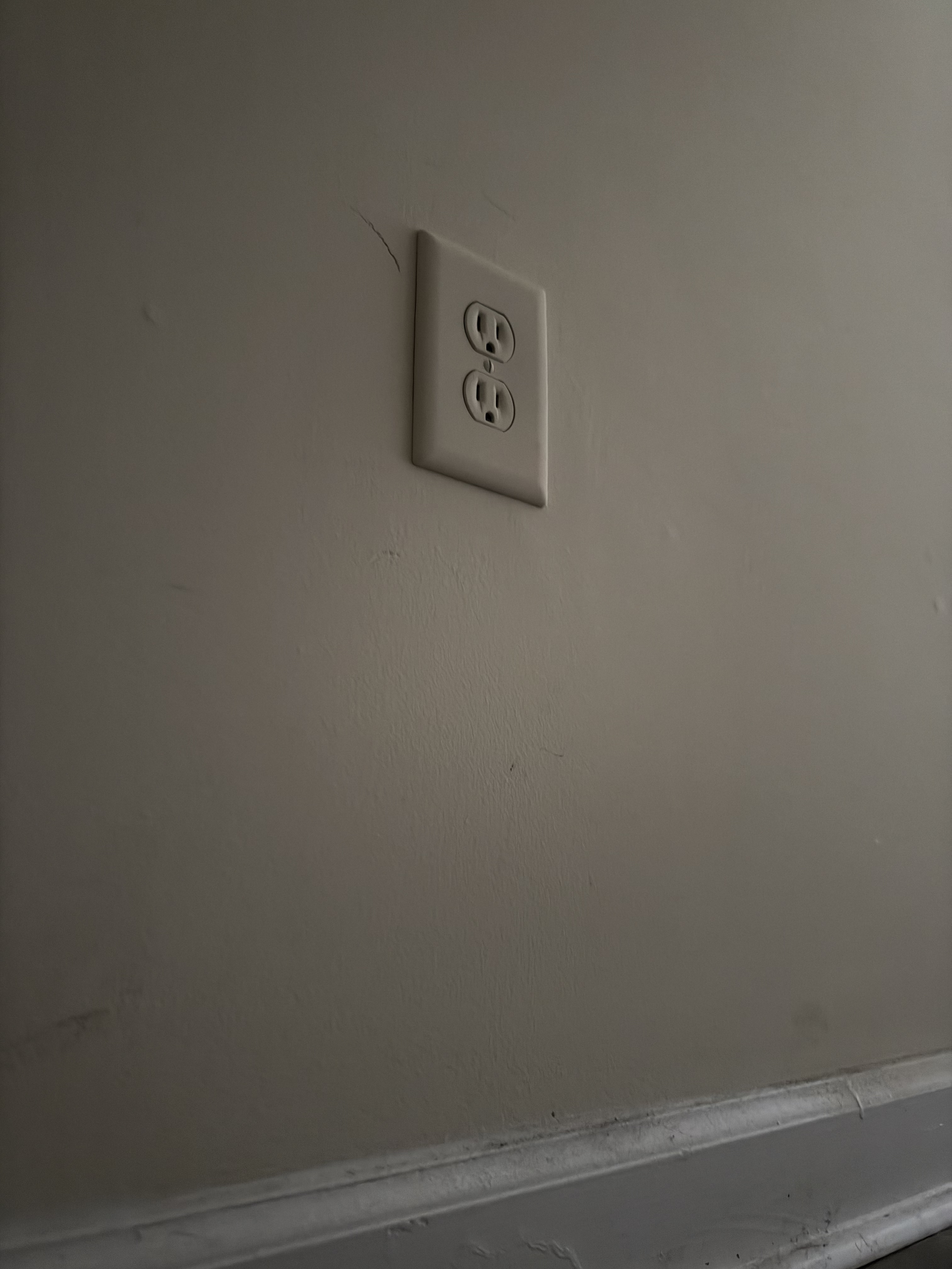outlet: (416, 223, 546, 501)
